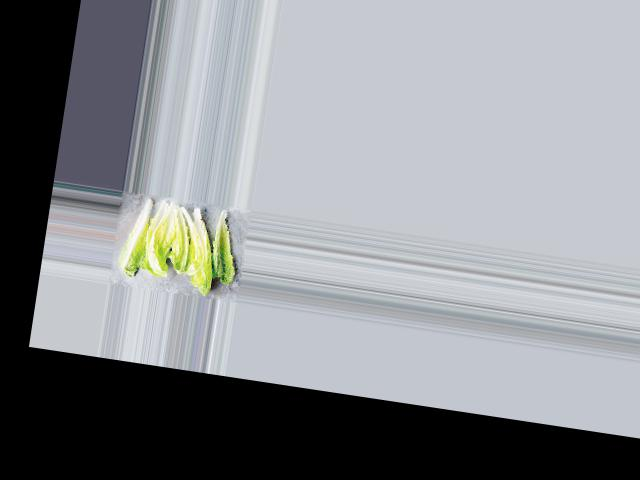lettuce: (206, 206, 241, 284)
